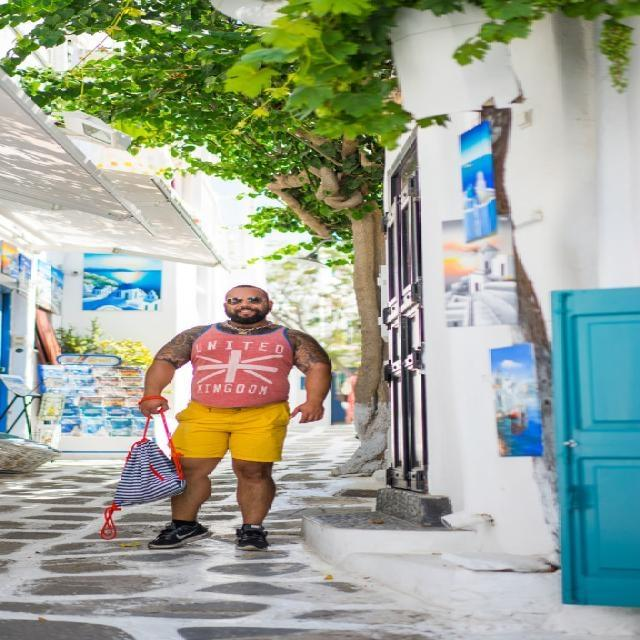door: (549, 286, 640, 614)
